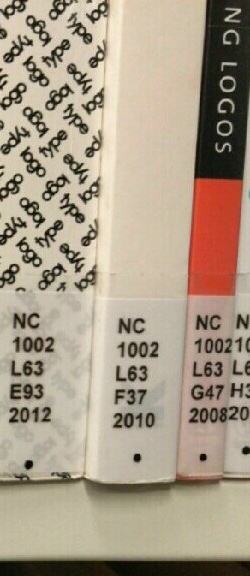call_number: (0, 295, 92, 485), (91, 296, 174, 490), (184, 295, 232, 479)
